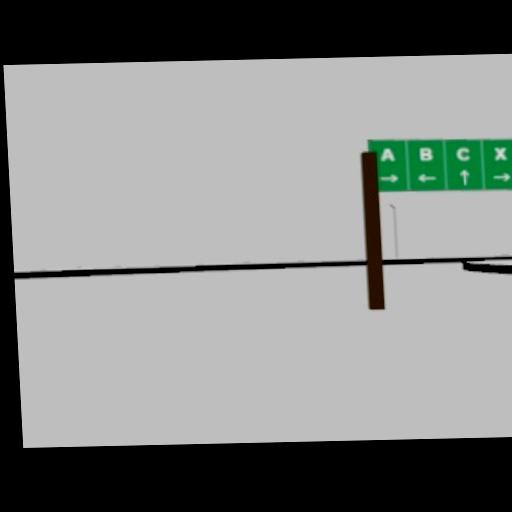A: (380, 148, 395, 161)
B: (419, 147, 434, 160)
C: (457, 145, 470, 161)
Left: (415, 172, 436, 180)
Right: (379, 172, 398, 181), (491, 172, 510, 180)
Straight: (458, 167, 469, 185)
X: (494, 146, 507, 160)
